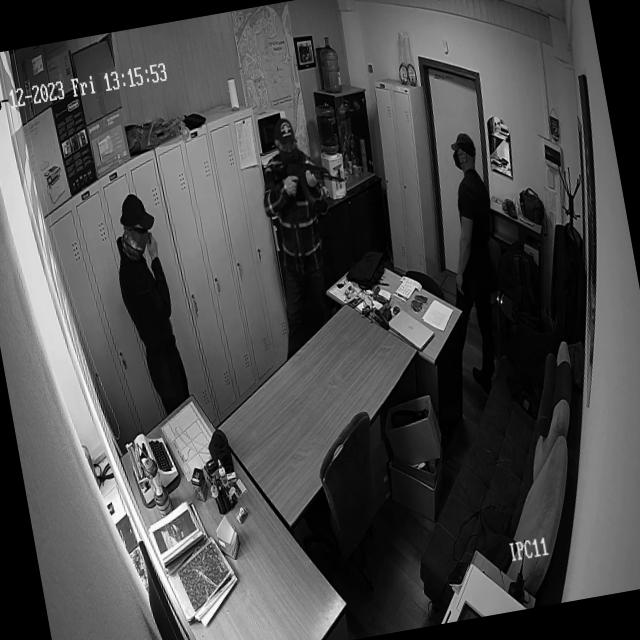gun: (270, 159, 348, 212)
person: (420, 127, 522, 410), (102, 193, 188, 407)
person with a gun: (254, 123, 372, 350)
